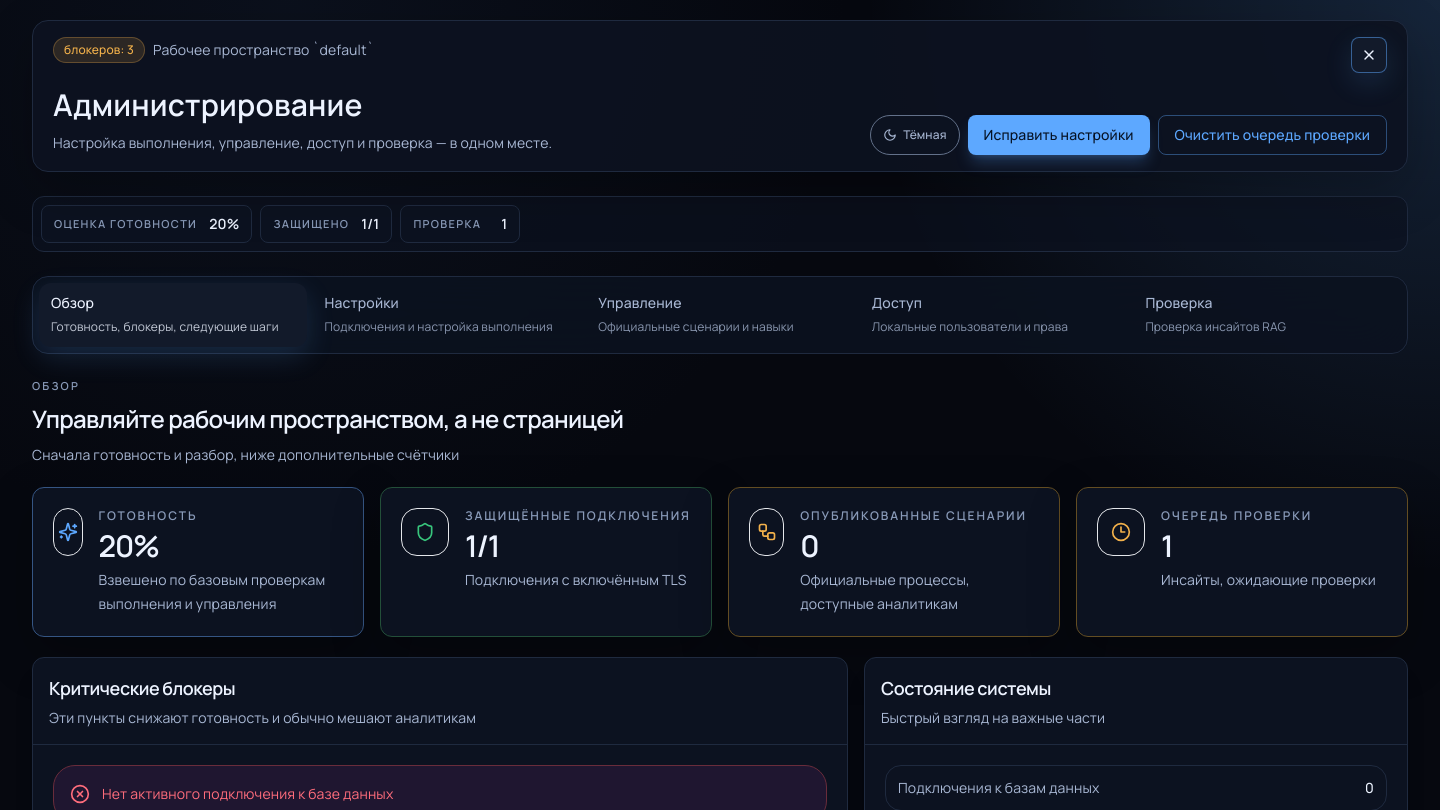
AdminPageClient › renders existing mcp connectors without an allowed tool list
What coordinates should you click on to do the following:
click the button "Настройки Подключения и настройка выполнения"
I would click on:
 (446, 315)
Its box is x1=313 y1=283 x2=580 y2=347.
(page scrolled)
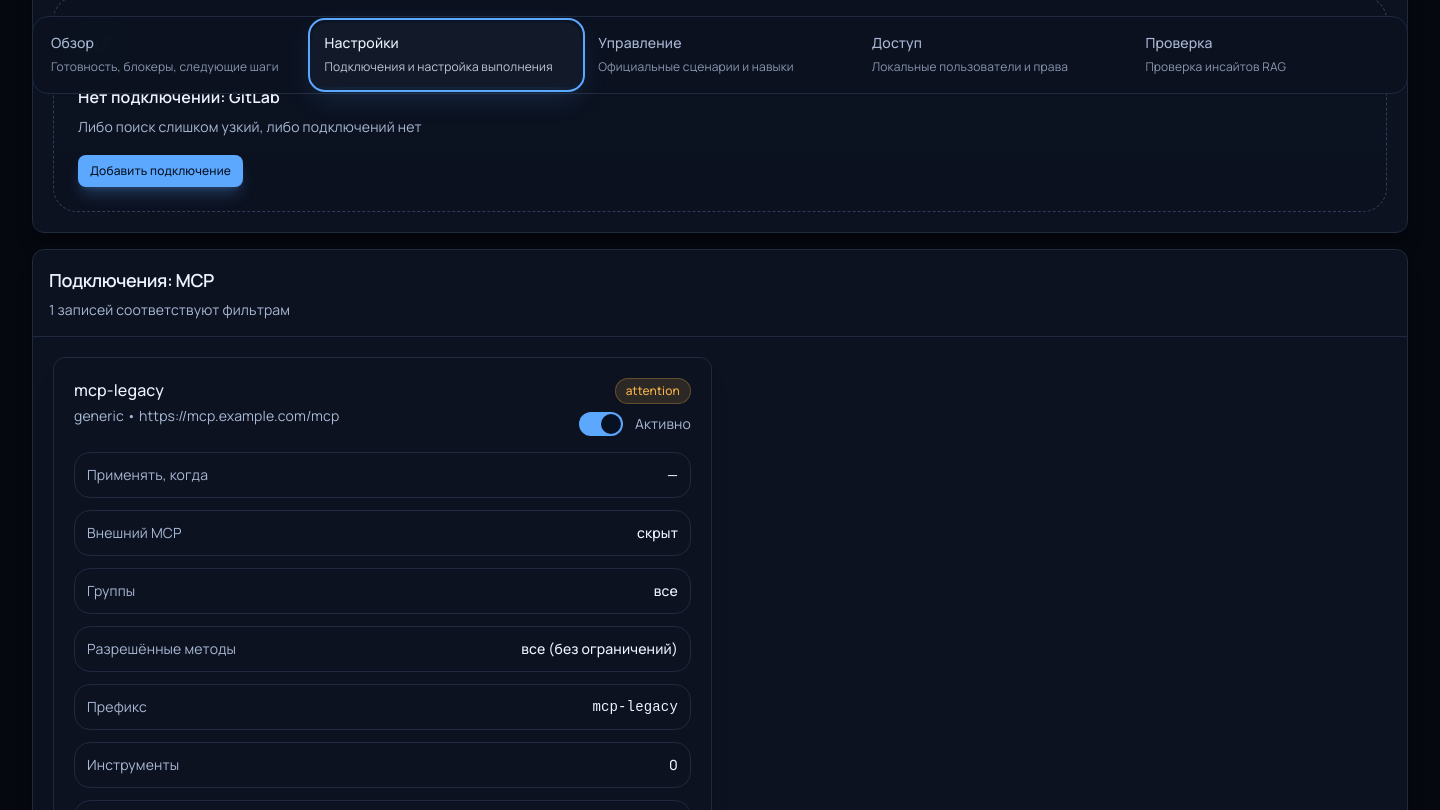
Expected: the text "mcp-legacy" in the row of "attention" is shown, x1=74 y1=378 x2=164 y2=400
